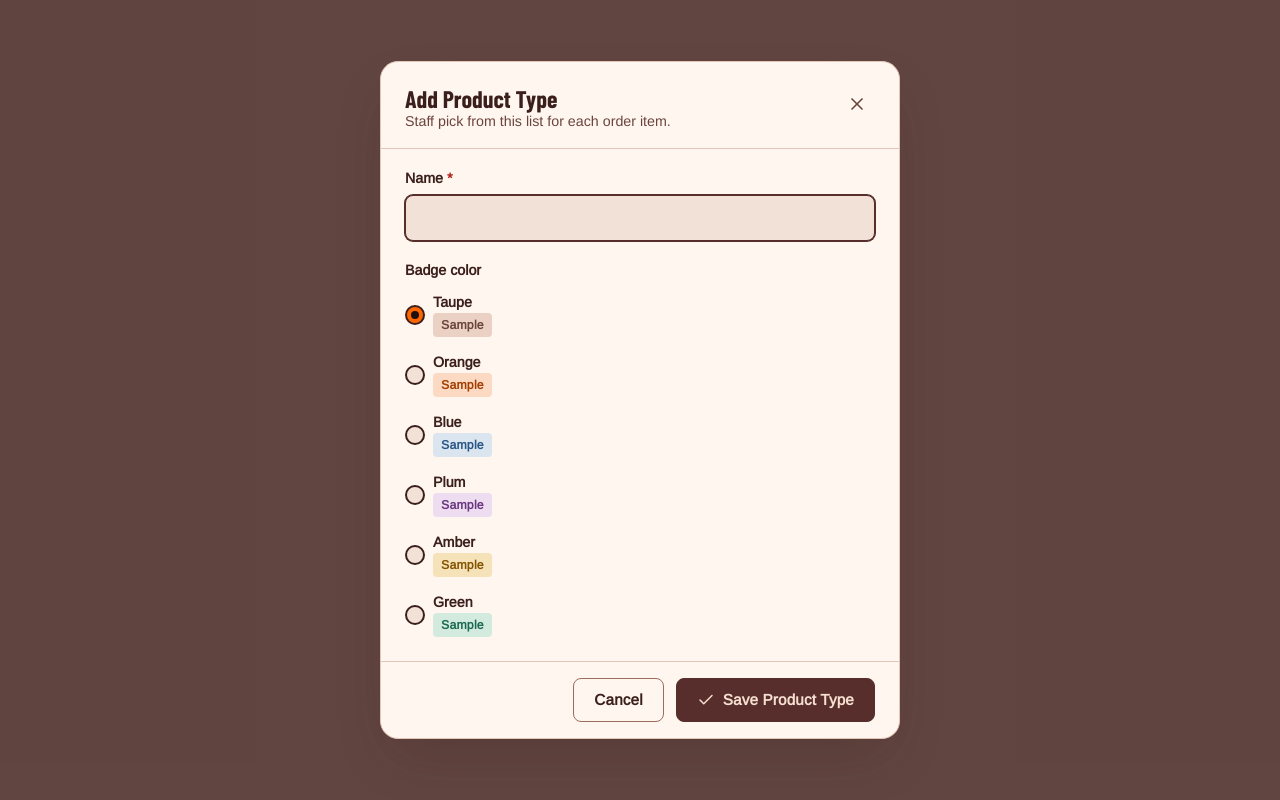
it: S2 order list modal: product-types › shows the list noun in the required message and sends nothing for an empty name
Click the button "Save Product Type" at [775, 700], box x1=676 y1=678 x2=875 y2=722
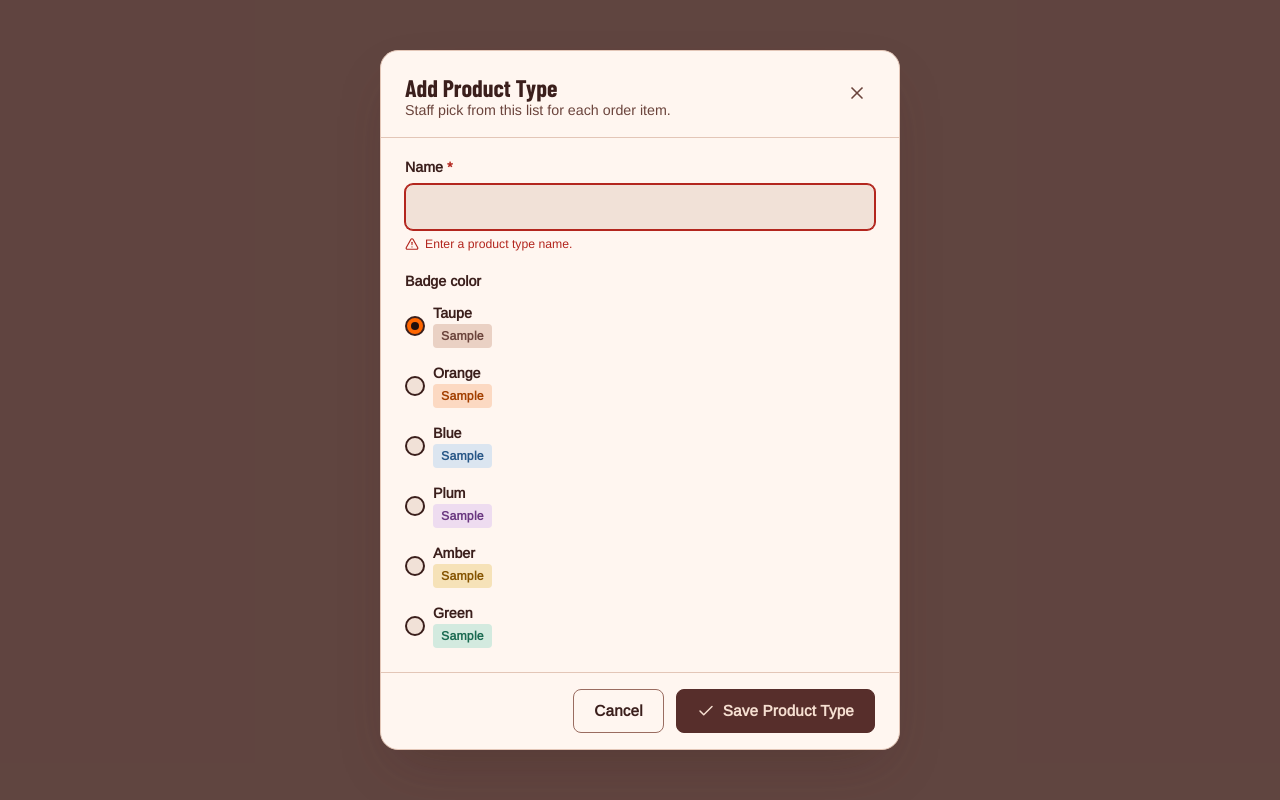
Result: the text "Enter a product type name." is shown at x1=405 y1=237 x2=572 y2=251
